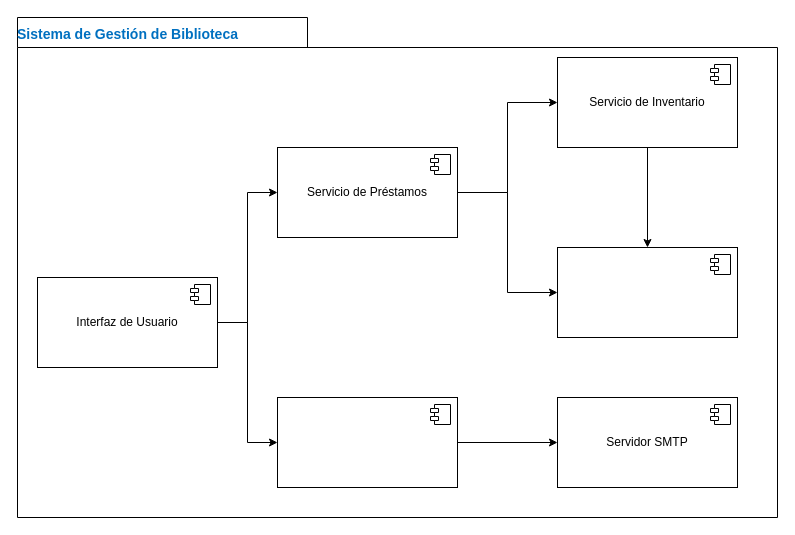
The diagram is 795 pixels wide and 535 high, and some of its shapes have lost their labels. Each missing label, with the centre of its shape:
"Base de Datos" belongs at point 647,292.
"Servicio de Notificaciones" belongs at point 367,442.
